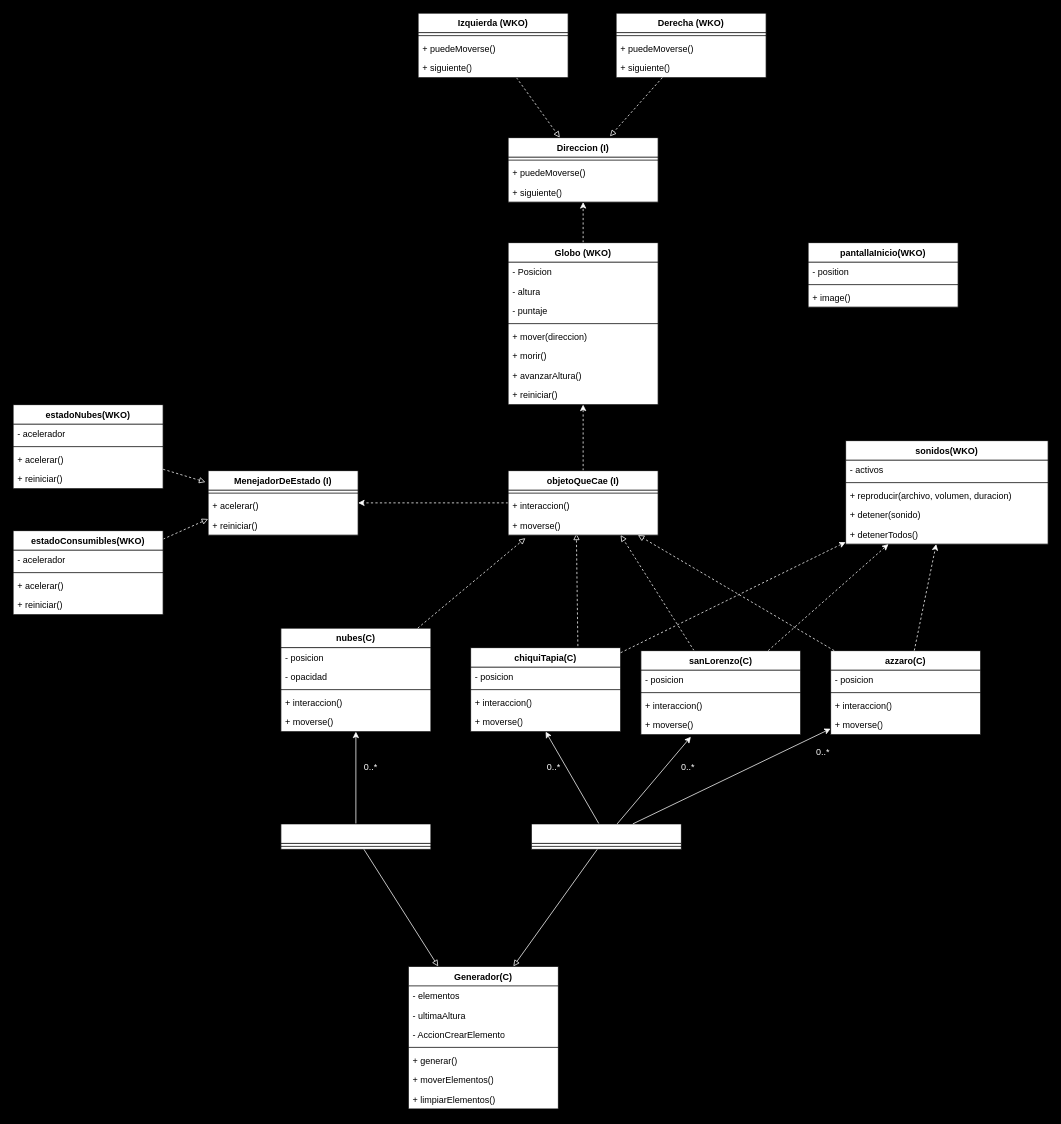
The diagram is 1061 pixels wide and 1124 high, and some of its shapes have lost their labels. The shapes that lost their labels are listed below. From the top down, each one's centre as x and y in pixels, then its label:
At (355,836): "GeneradorNubes(WKO)".
At (606,836): "GeneradorConsumibles(WKO)".
